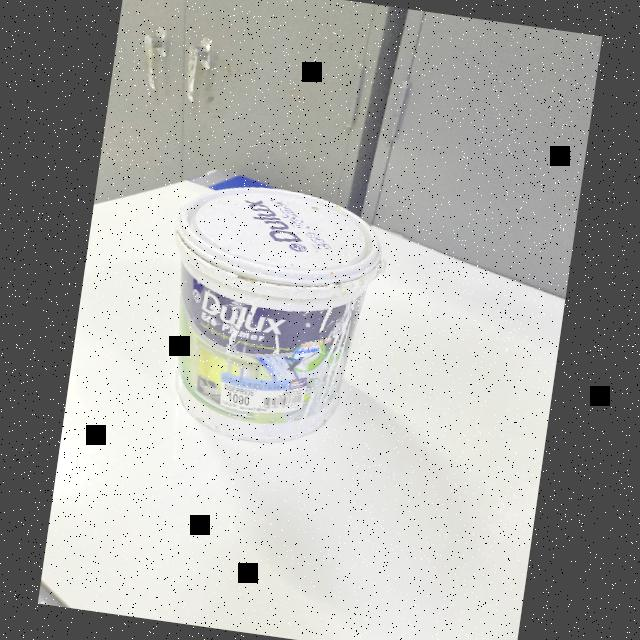paint_bucket: (146, 162, 390, 454)
